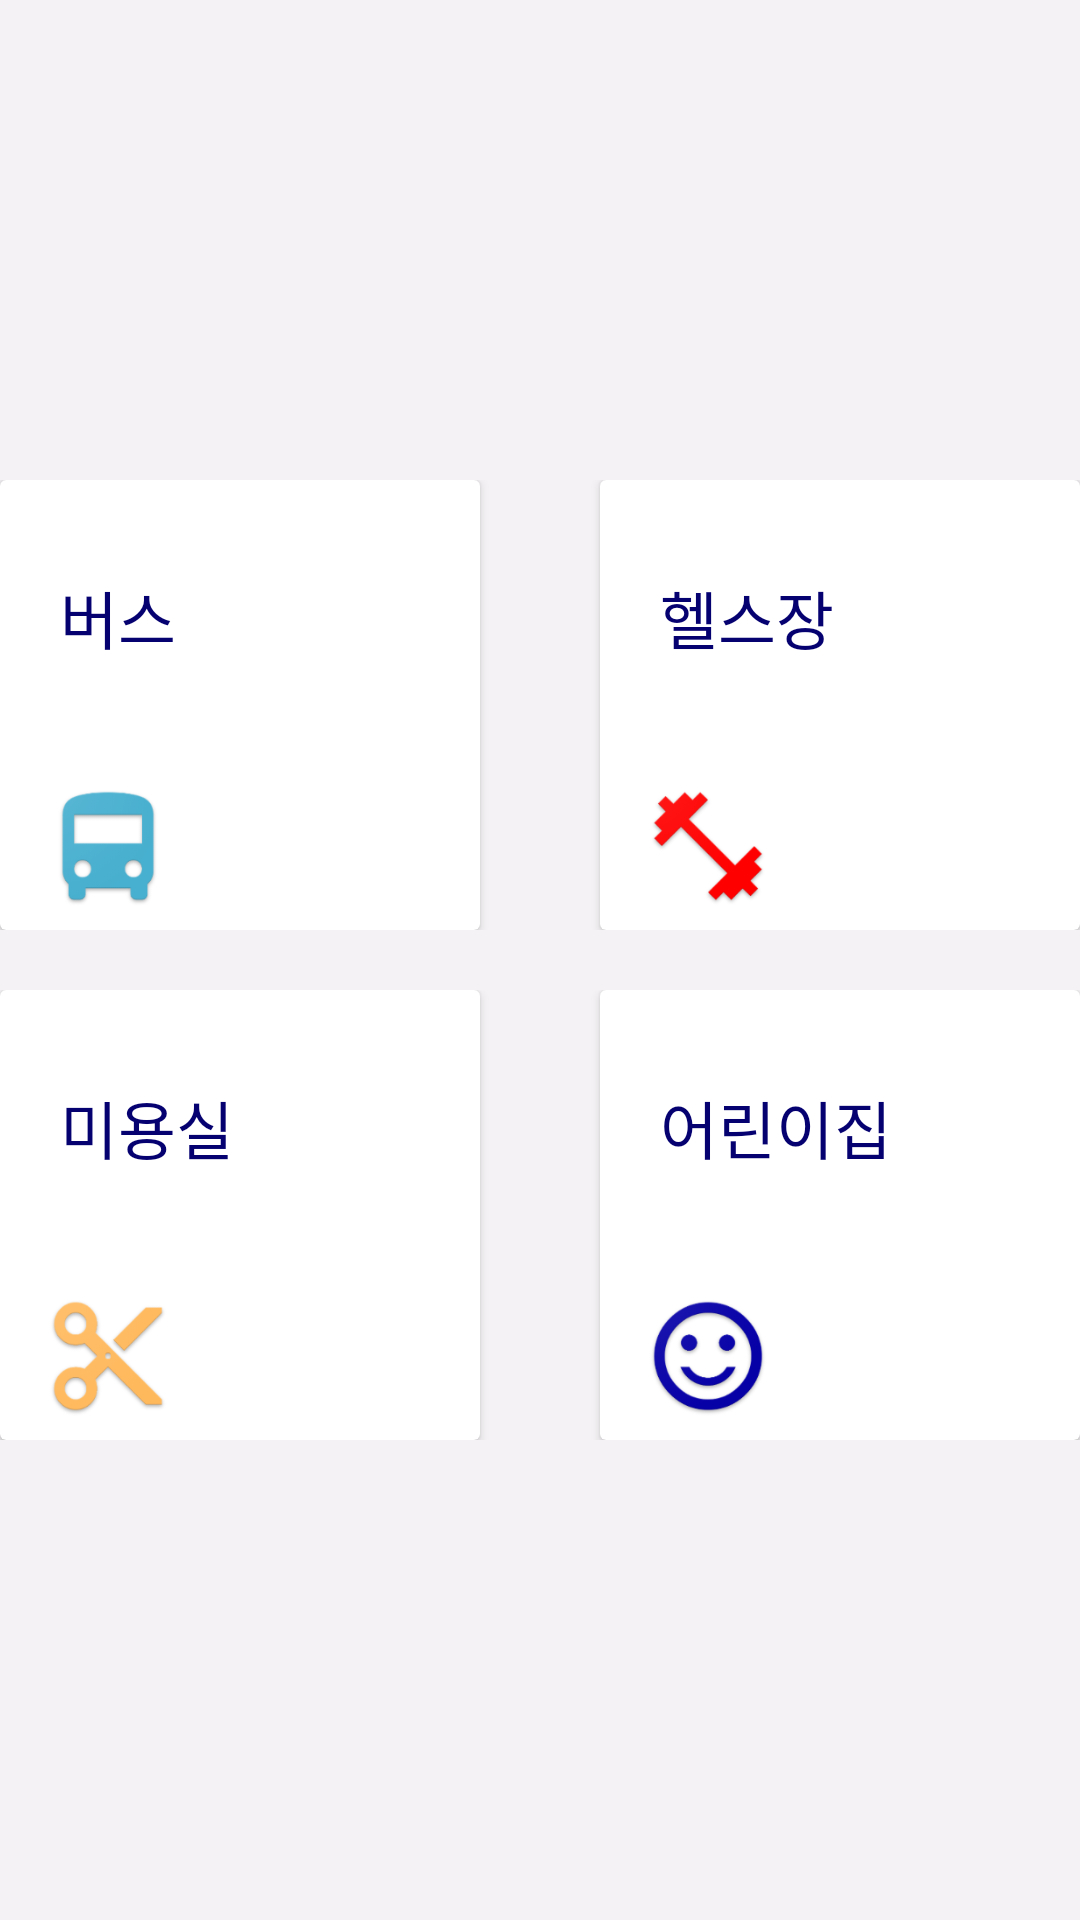

Point at icon controls on the screen. Image size 1080×1920, points as point (x, y).
bus: point (108, 847)
hair: point (108, 1357)
health: point (708, 846)
